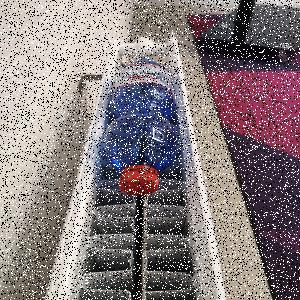Plastic-bottle: (103, 56, 182, 198)
